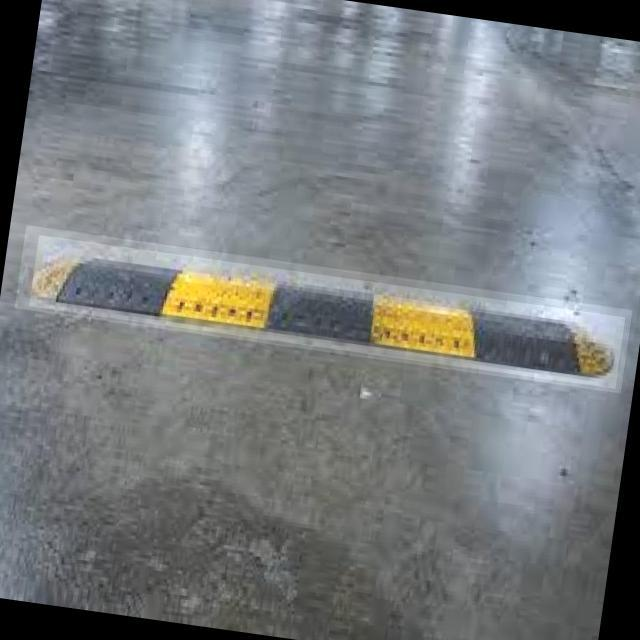speedbreaker: (29, 235, 625, 389)
